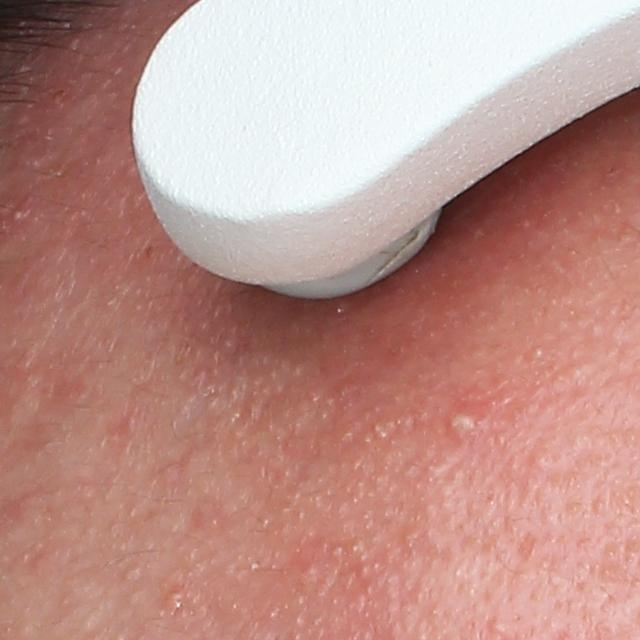comedo: (527, 448, 552, 471), (487, 618, 510, 638), (604, 543, 617, 558)
pustule: (445, 408, 482, 441)
